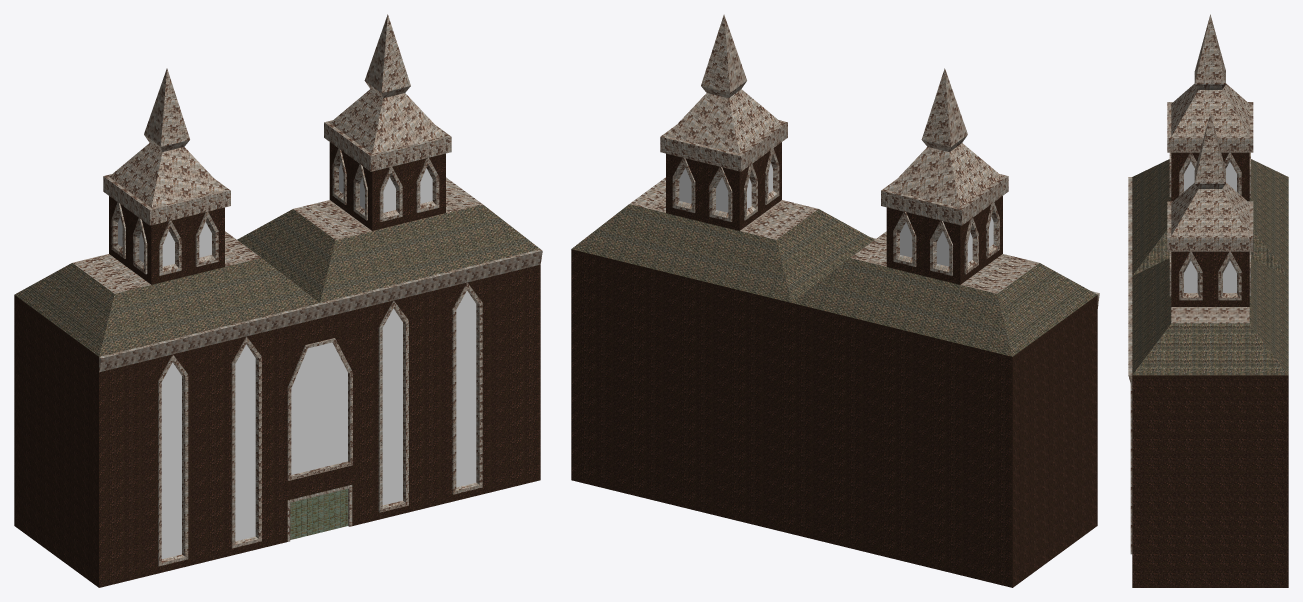
The model's file is SM_Cathedral_02.gltf.
3 renders of one model, left to right at view 1: azimuth 30°, elevation 25°; view 2: azimuth 150°, elevation 25°; view 3: azimuth 270°, elevation 25°, orthographic. The views are drawn at different scales.
Visible parts, largest first — view 1: SM_Cathedral_02; view 2: SM_Cathedral_02; view 3: SM_Cathedral_02.
Part boxes in pixels (x1,y1,x2,y2): SM_Cathedral_02: (14, 14, 542, 587); SM_Cathedral_02: (571, 14, 1099, 587); SM_Cathedral_02: (1128, 14, 1288, 587).
Bounding box in the file's own units: 60 × 60 × 20.5.
